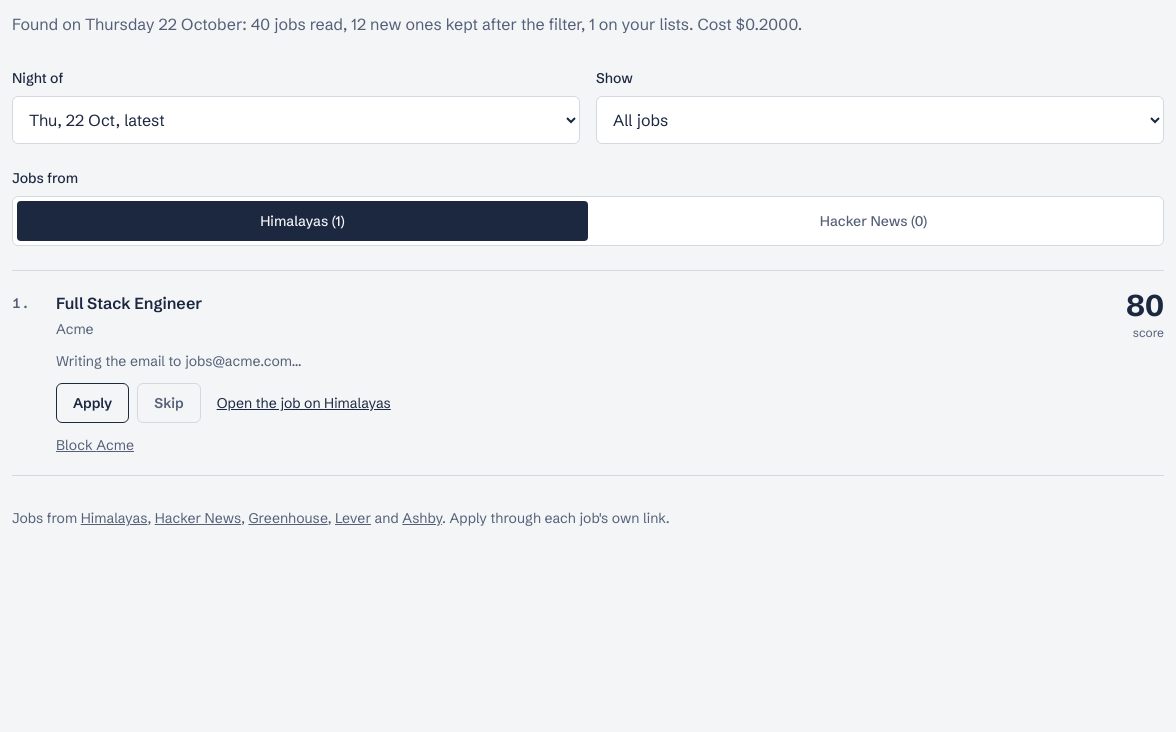
Scenario: a source with no new jobs says so
The width and height of the screenshot is (1176, 732).
Step 1. Click the radio button labelled "Hacker News (0)" → (873, 221), box [820,212,927,230]
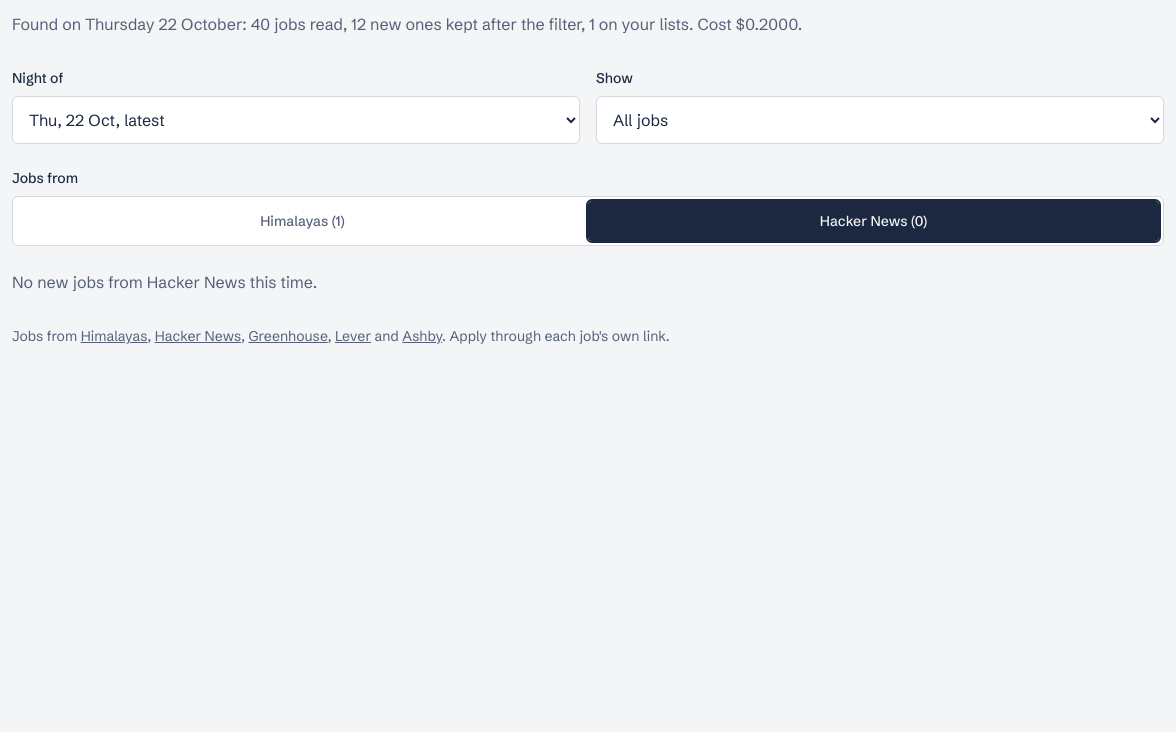
Expected: the text "No new jobs from Hacker News this time." is shown, [12,272,317,292]
